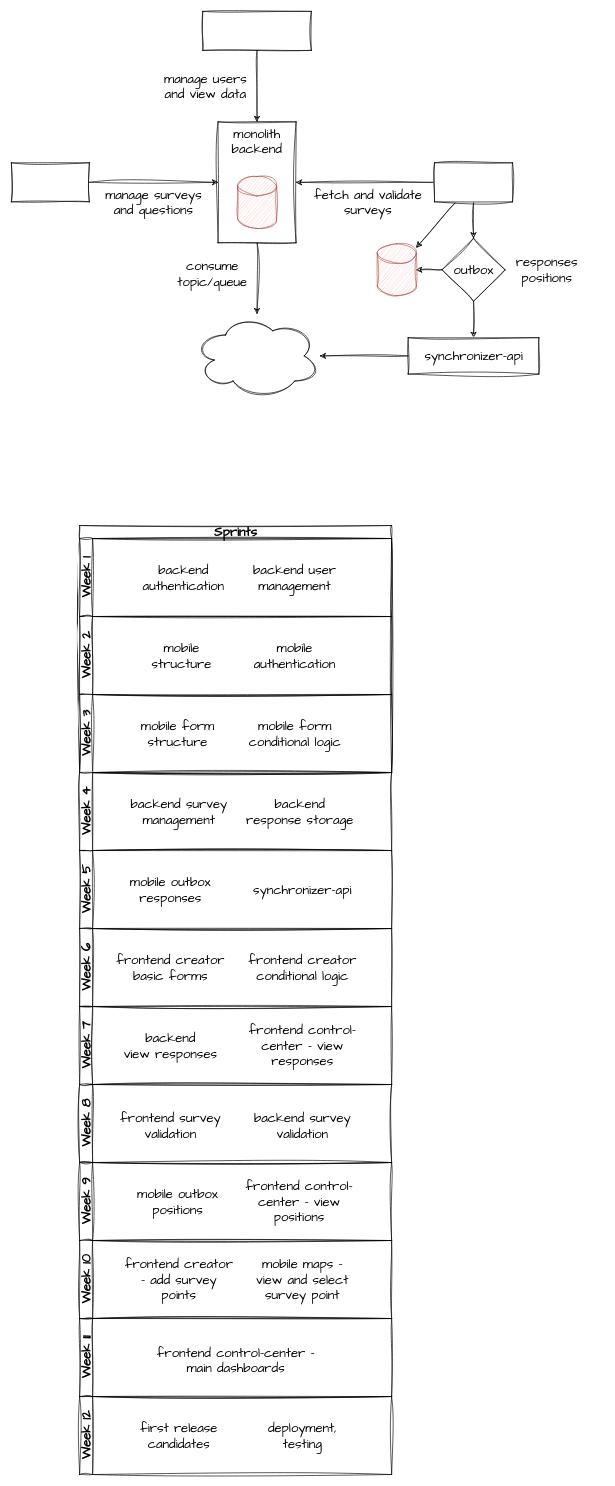
Image size: 615x1486. Some labels were removed from this diagram. Here are the shapes that lost their labels. From the top down, the centre of each, then its label:
(256,30): control-center
(50,182): creator
(473,182): mobile-app
(396,269): Local DB
(257,355): Message Broker
